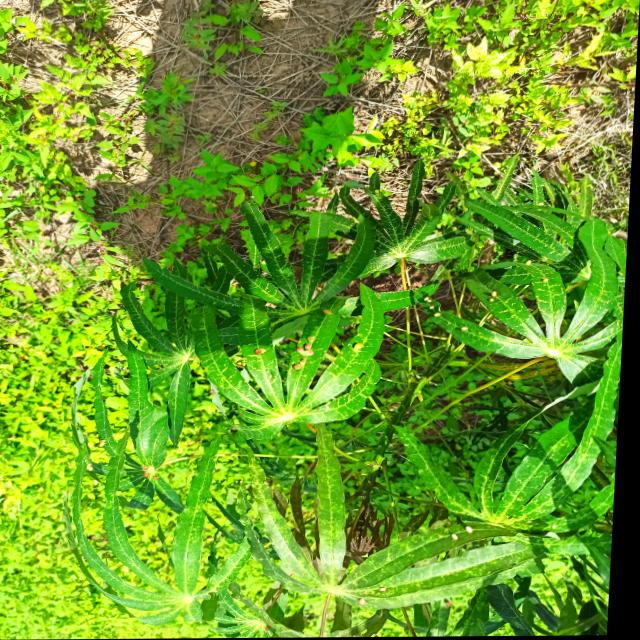Maleza: (0, 0, 75, 630), (311, 0, 613, 138), (283, 105, 376, 172)
Mosca: (286, 335, 319, 372), (413, 289, 443, 323), (438, 521, 480, 545), (136, 459, 161, 491), (350, 332, 374, 352), (319, 302, 342, 322), (481, 286, 501, 305), (251, 342, 270, 362), (516, 251, 538, 268), (537, 272, 554, 291), (449, 324, 473, 337)
